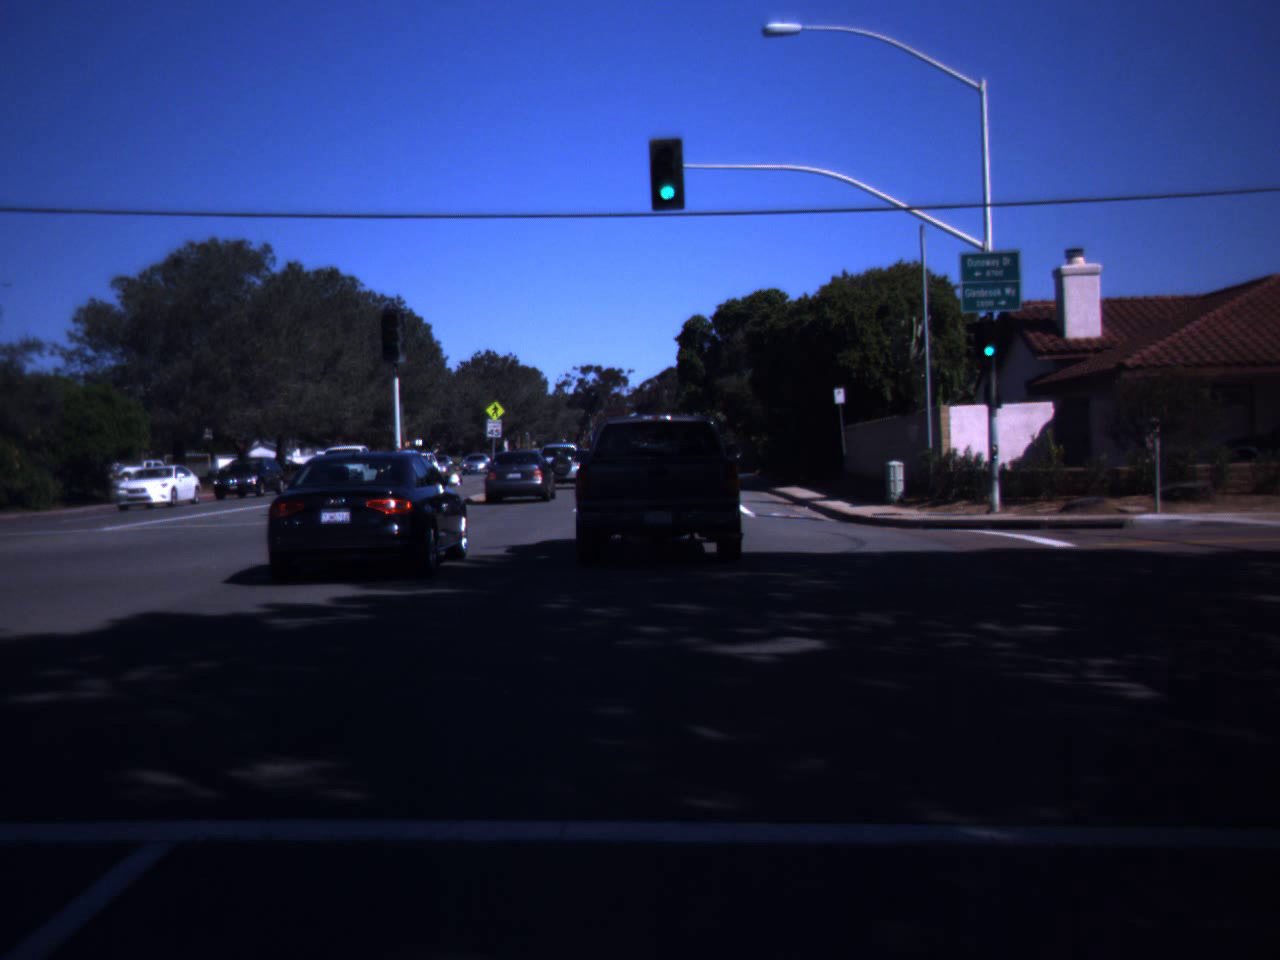go: (648, 148, 687, 203), (980, 319, 1004, 359)
